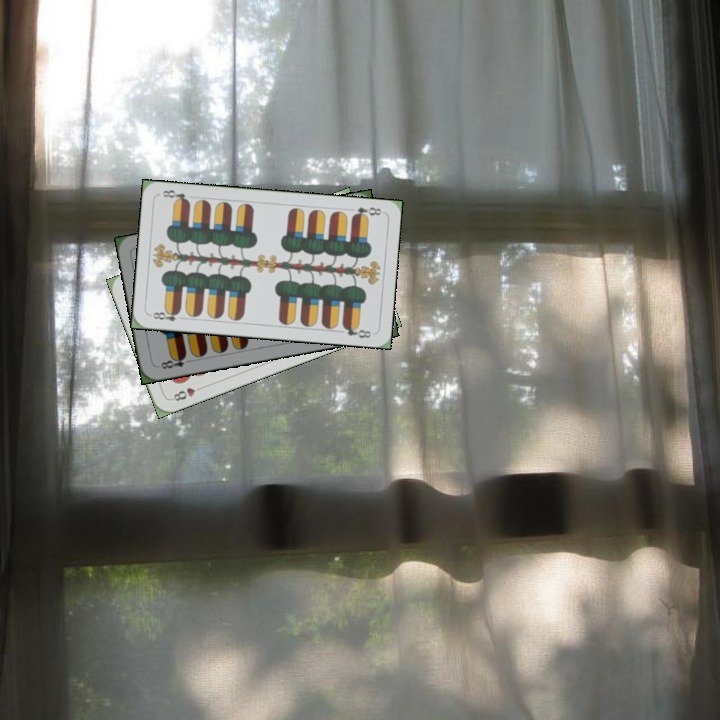E8: (154, 351, 194, 372), (147, 306, 187, 324), (348, 203, 384, 221)
H8: (167, 382, 206, 404)
